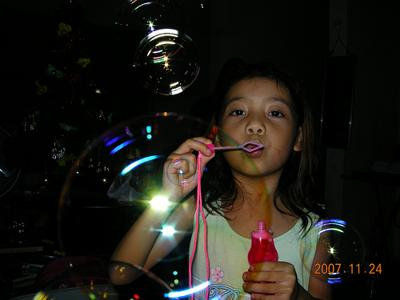person: (108, 70, 360, 300)
